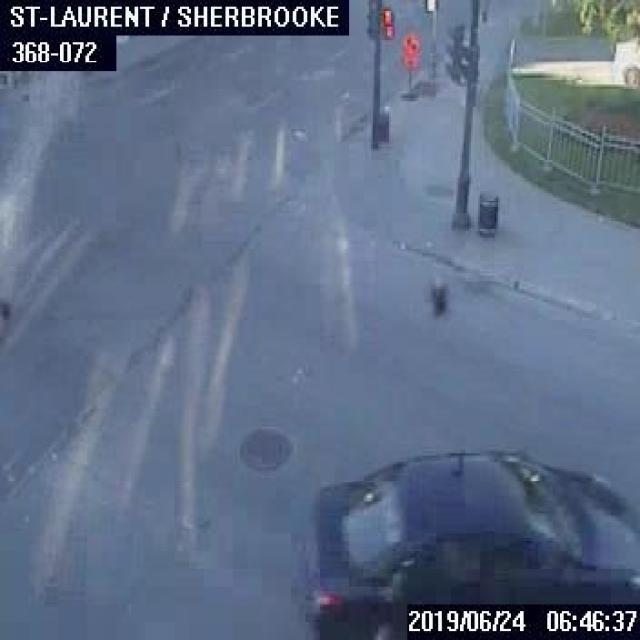construction: (398, 30, 419, 98)
vehicle: (296, 449, 638, 638), (404, 600, 638, 638)
